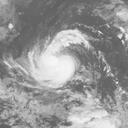cyclone: (24, 30, 86, 90)
